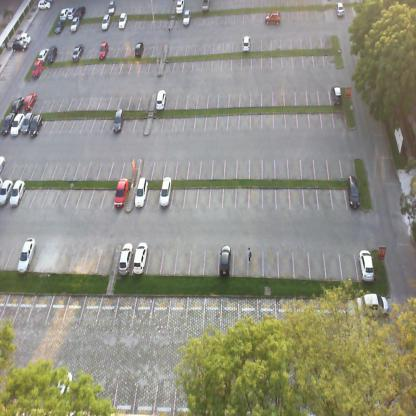car: (16, 234, 37, 274), (55, 372, 74, 413), (354, 240, 374, 277), (361, 295, 390, 318), (344, 176, 362, 206), (113, 177, 129, 210), (156, 178, 172, 211), (132, 240, 148, 273), (217, 242, 233, 275), (118, 242, 134, 272), (10, 178, 26, 208), (133, 177, 146, 212), (0, 176, 14, 206), (1, 108, 16, 135), (264, 5, 282, 27), (112, 107, 126, 135), (10, 109, 24, 137), (29, 112, 44, 138), (21, 110, 35, 136), (330, 82, 343, 108), (22, 91, 38, 111), (154, 87, 166, 113), (72, 40, 84, 63), (133, 38, 145, 60), (12, 93, 24, 114), (31, 60, 43, 80), (98, 38, 108, 59), (334, 2, 346, 19), (118, 11, 128, 31), (12, 39, 28, 51), (47, 44, 57, 62), (38, 44, 48, 62), (17, 31, 32, 43), (100, 14, 110, 32), (180, 8, 190, 26), (242, 32, 251, 52), (74, 4, 85, 19), (201, 0, 212, 15), (53, 21, 64, 34), (58, 6, 69, 19), (174, 0, 184, 14), (70, 14, 78, 31), (36, 0, 50, 9), (108, 0, 116, 15), (68, 7, 75, 21)
